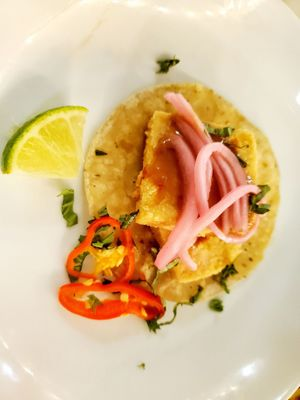sandwich: (56, 79, 289, 329)
